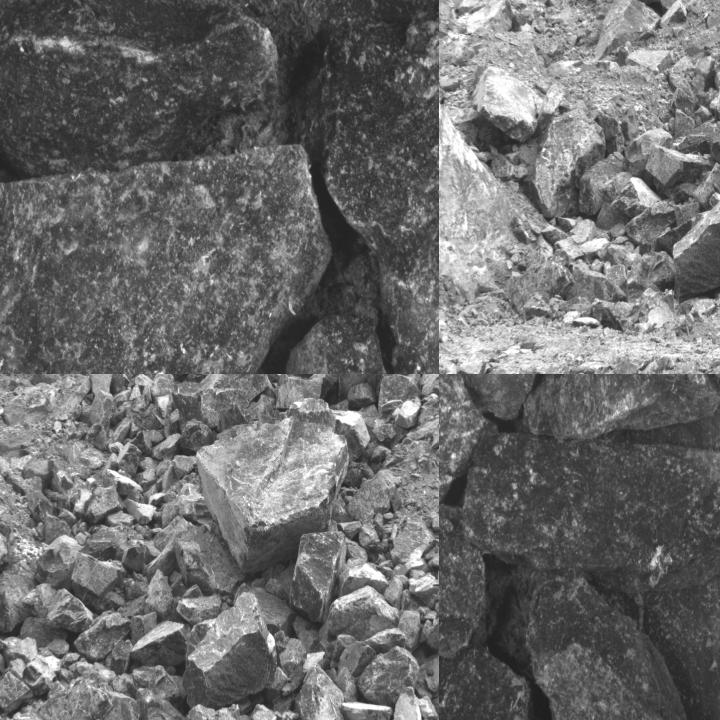stone: (0, 146, 329, 373), (0, 0, 277, 182), (314, 0, 438, 373), (465, 431, 719, 593), (197, 395, 348, 573), (526, 571, 704, 719), (523, 374, 719, 439), (182, 593, 277, 709), (526, 110, 605, 221), (439, 498, 486, 661), (278, 315, 400, 373), (439, 647, 535, 719), (173, 374, 269, 439), (174, 519, 245, 595), (672, 186, 719, 300), (290, 530, 346, 624), (317, 586, 401, 642), (474, 66, 540, 134), (594, 0, 661, 65), (35, 681, 141, 719), (645, 144, 714, 200), (560, 259, 626, 315), (71, 552, 127, 615), (358, 646, 418, 704), (293, 660, 347, 719), (73, 609, 132, 663), (234, 583, 293, 636), (345, 468, 399, 524), (0, 557, 38, 634), (130, 621, 193, 665), (625, 198, 674, 252), (275, 374, 338, 414), (35, 534, 79, 590), (161, 481, 211, 530), (672, 120, 719, 172), (375, 374, 428, 419), (45, 589, 95, 634), (133, 664, 185, 703), (613, 178, 662, 219), (390, 520, 434, 564), (275, 634, 306, 695), (80, 526, 131, 562), (637, 249, 677, 291), (88, 390, 115, 450), (0, 671, 35, 717), (335, 374, 388, 404), (84, 484, 123, 524), (176, 595, 222, 626), (180, 420, 214, 456), (387, 687, 424, 719), (540, 80, 567, 121), (44, 509, 73, 544), (115, 443, 142, 480), (671, 78, 696, 115), (331, 634, 357, 668), (660, 0, 688, 27), (673, 109, 696, 138), (629, 0, 681, 12), (151, 374, 177, 397), (709, 82, 719, 121), (151, 374, 184, 381)
